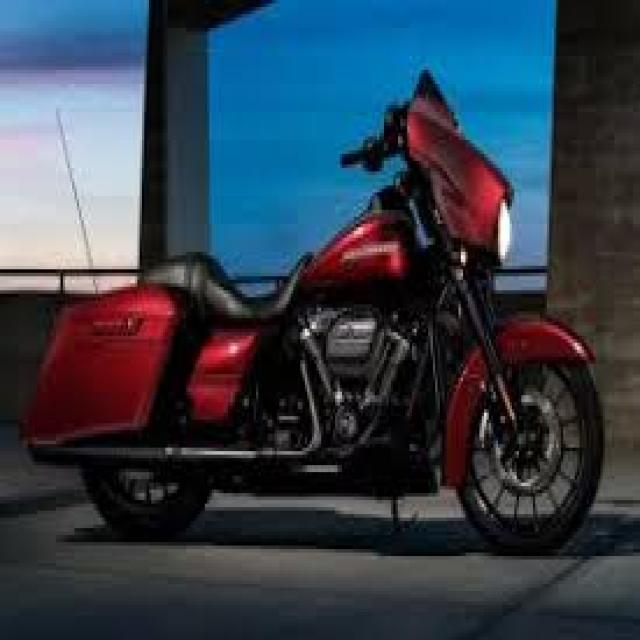MOTORCYCLE: (1, 120, 612, 553)
